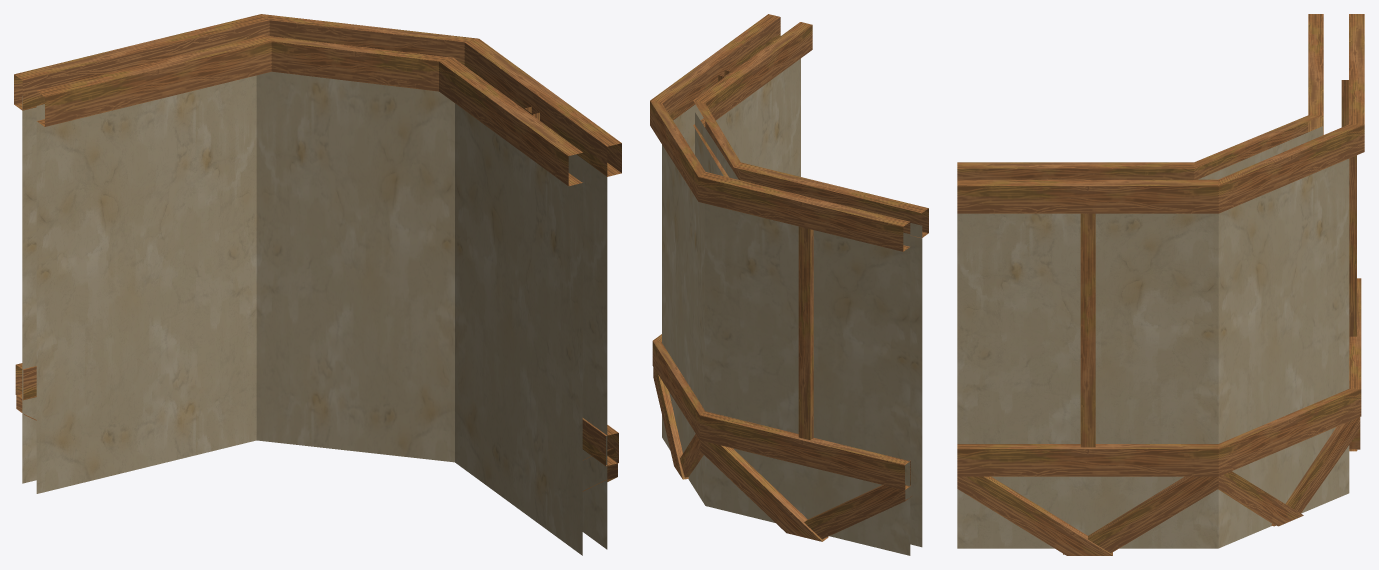
Rendered from Overhang_Plaster_Corner_Front.gltf.
The picture shows the model from 3 angles, left to right: view 1: azimuth 30°, elevation 25°; view 2: azimuth 150°, elevation 25°; view 3: azimuth 270°, elevation 25°; orthographic projection. The views are drawn at different scales.
Parts seen in each view (by area): view 1: Overhang_Plaster_Corner_Front; view 2: Overhang_Plaster_Corner_Front; view 3: Overhang_Plaster_Corner_Front.
Part boxes in pixels (x1=…): Overhang_Plaster_Corner_Front: x1=14, y1=14, x2=621, y2=555; Overhang_Plaster_Corner_Front: x1=650, y1=14, x2=928, y2=555; Overhang_Plaster_Corner_Front: x1=957, y1=14, x2=1364, y2=555.
Size of the model in its own units: 3.12 by 3.14 by 3.12.
Materials: 2 (2 with a texture image).
